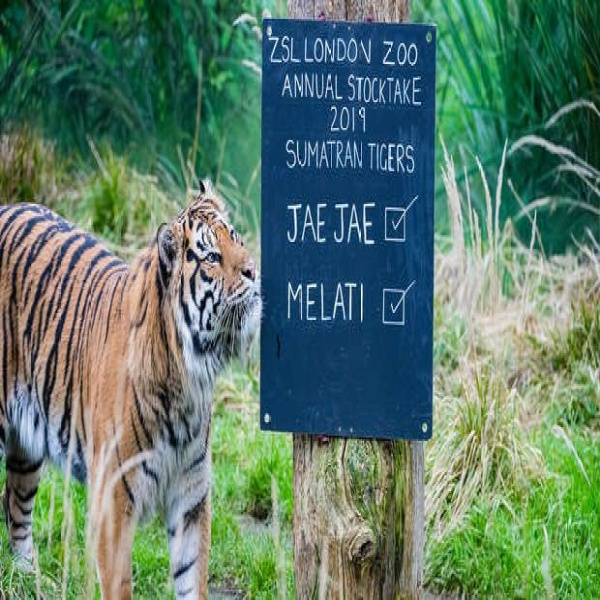Tiger: (1, 191, 262, 598)
